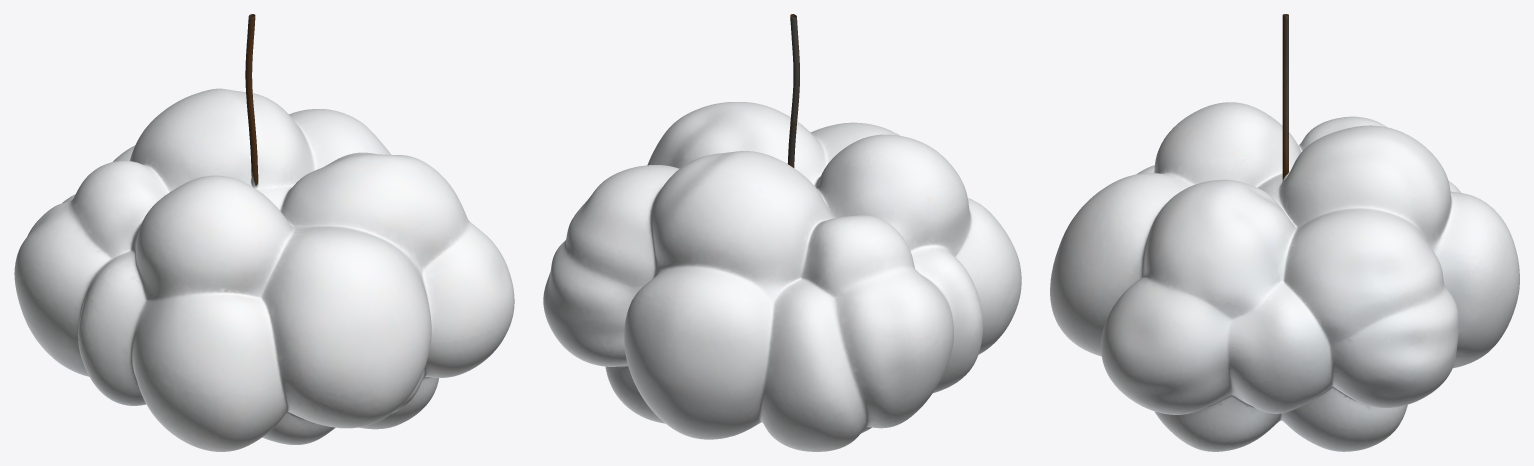
The model's file is Meshy_AI_A_theatrical_hanging__0823232712_texture-optimized.glb.
The picture shows the model from 3 angles, left to right: view 1: azimuth 30°, elevation 25°; view 2: azimuth 150°, elevation 25°; view 3: azimuth 270°, elevation 25°; orthographic projection. The views are drawn at different scales.
Visible parts, largest first — view 1: mesh_node; view 2: mesh_node; view 3: mesh_node.
Part boxes in pixels (x1,y1,x2,y2): mesh_node: (14,14,514,451); mesh_node: (543,14,1021,451); mesh_node: (1050,14,1519,451).
Bounding box in the file's own units: 1.74 × 1.79 × 1.9.
Materials: 1 (1 with a texture image).
